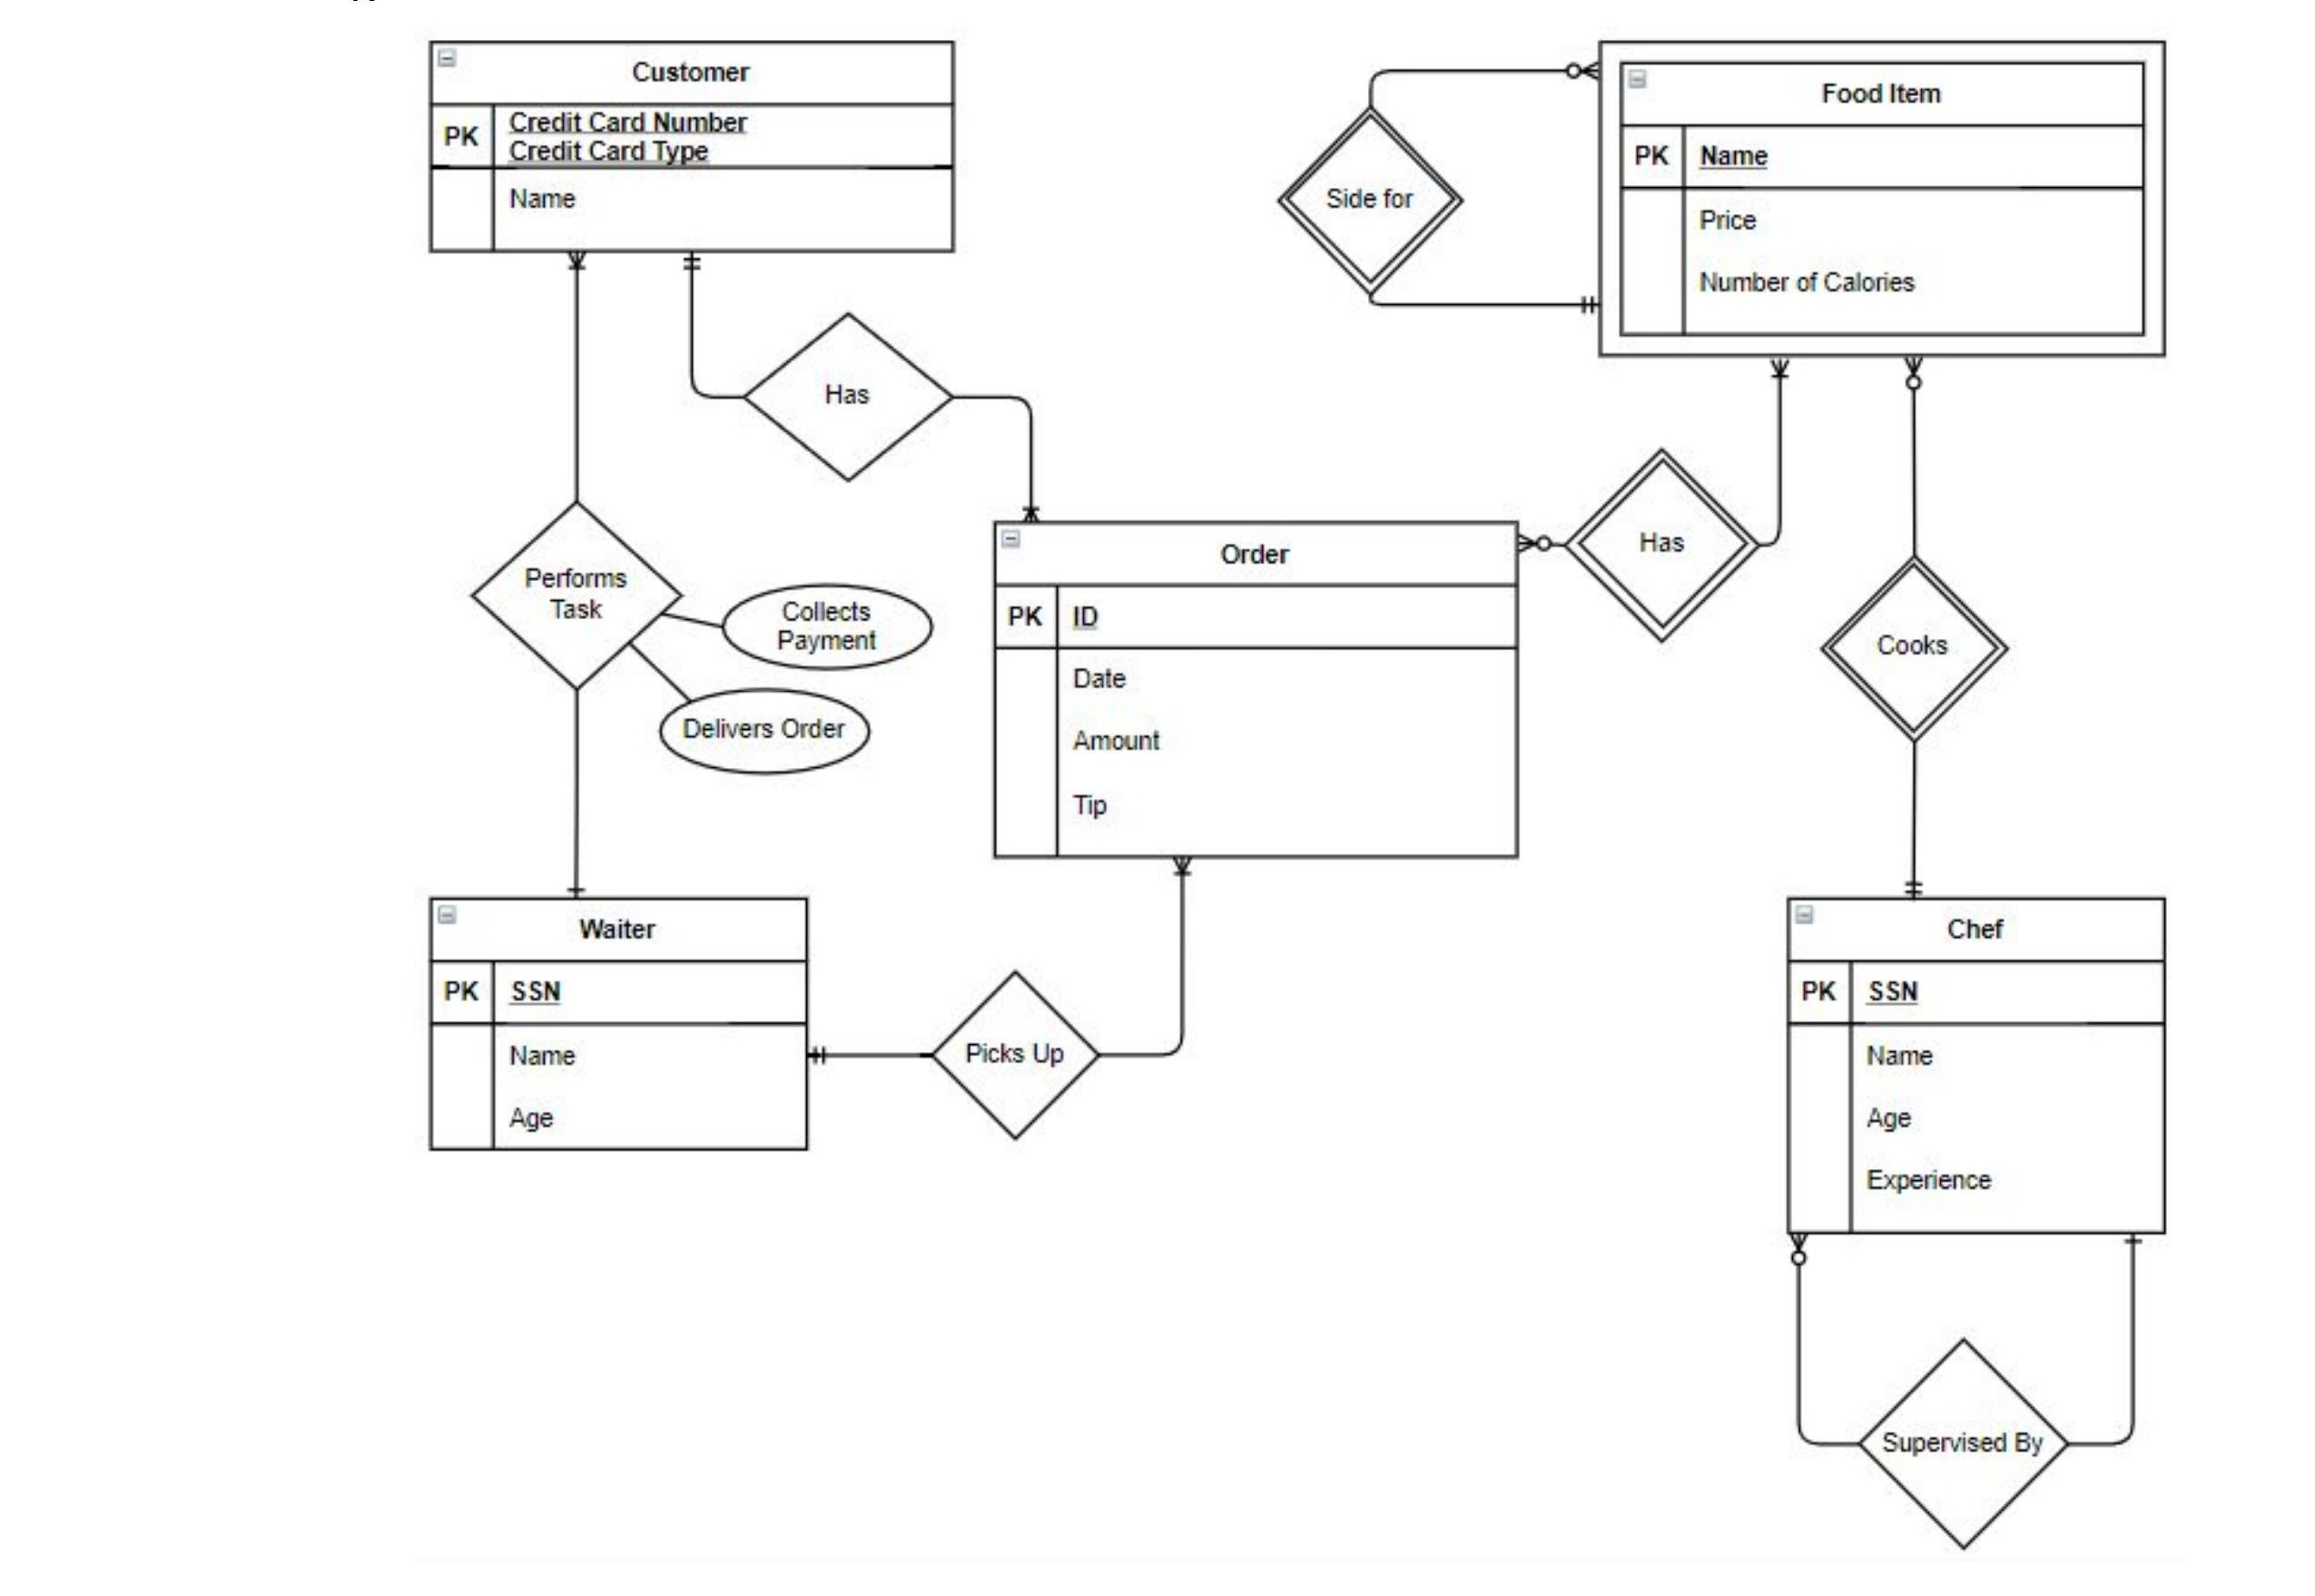Attribute: (656, 688, 871, 776), (723, 581, 936, 669)
Entity: (990, 519, 1520, 862), (1618, 60, 2150, 340), (1784, 896, 2171, 1237), (426, 37, 959, 255), (427, 896, 809, 1154)
Relationship: (1856, 1337, 2069, 1547), (471, 503, 683, 692), (1564, 445, 1759, 642), (742, 311, 952, 484), (1277, 106, 1462, 297), (1819, 556, 2007, 743), (931, 968, 1098, 1138)
